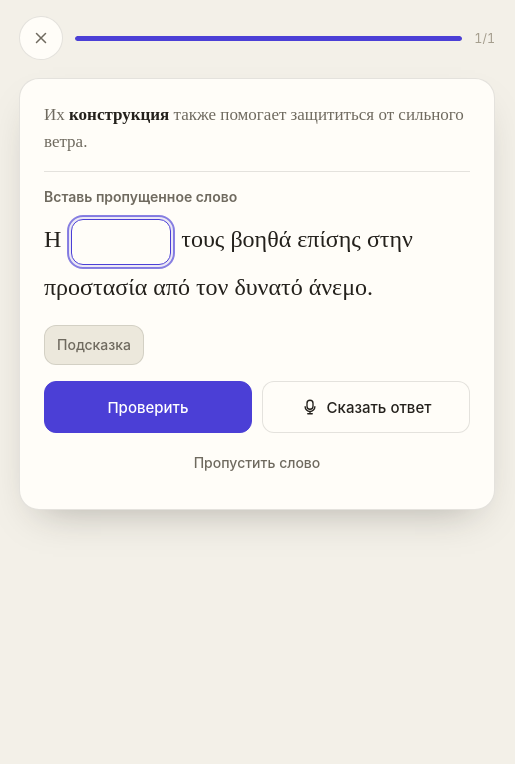
Test: TrainingPracticeView › подсказка влияет на попытку без служебной надписи на рабочем экране
The image size is (515, 764).
Click the button "Подсказка" at (94, 345), box [44,325,144,365]
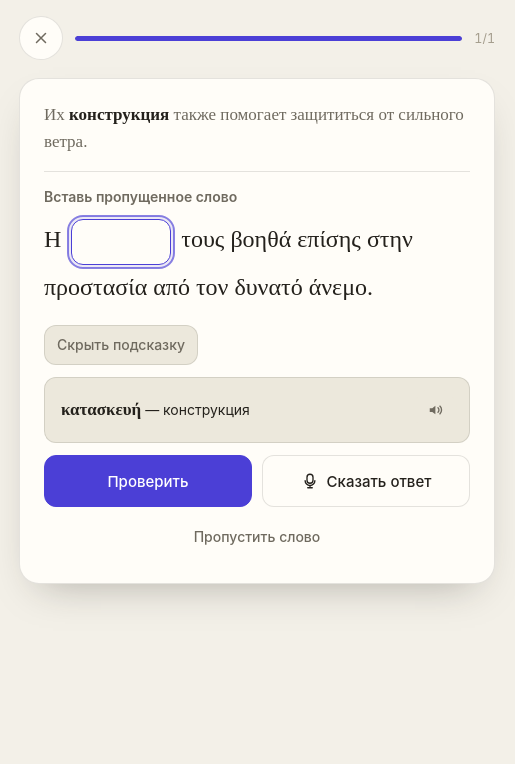
Now the text "κατασκευή" is shown, box [61,400,141,419]
Click the button named "Подсказка" at (121, 345), box [44,325,198,365]
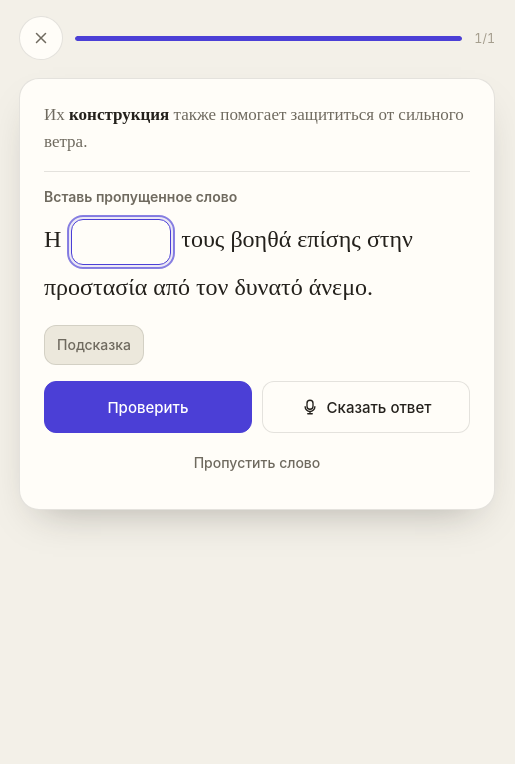
Type "κατασκευή" into the field at (121, 242), box [71,219,171,265]
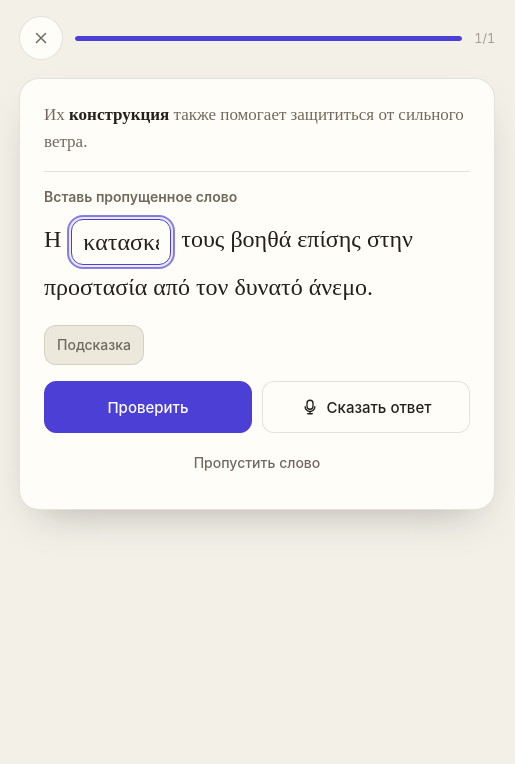
Click the button "Проверить" at (148, 407), box [44,381,252,433]
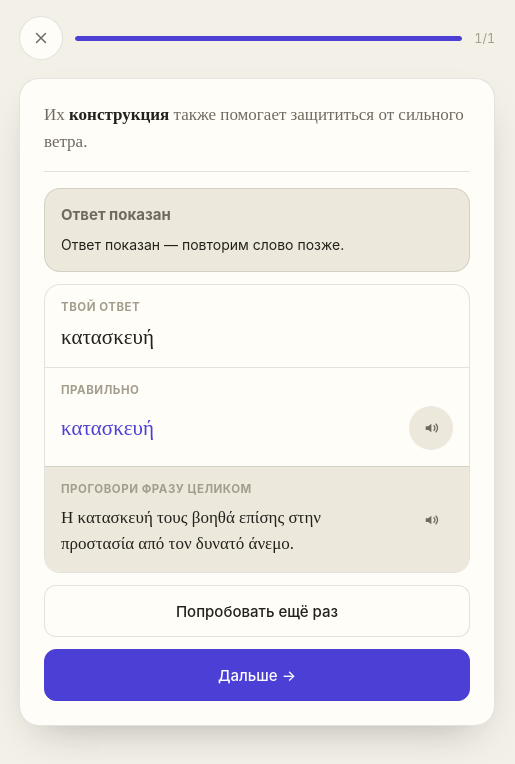
Now the text "Ответ показан — повторим слово позже." is shown, box [61,236,344,253]
